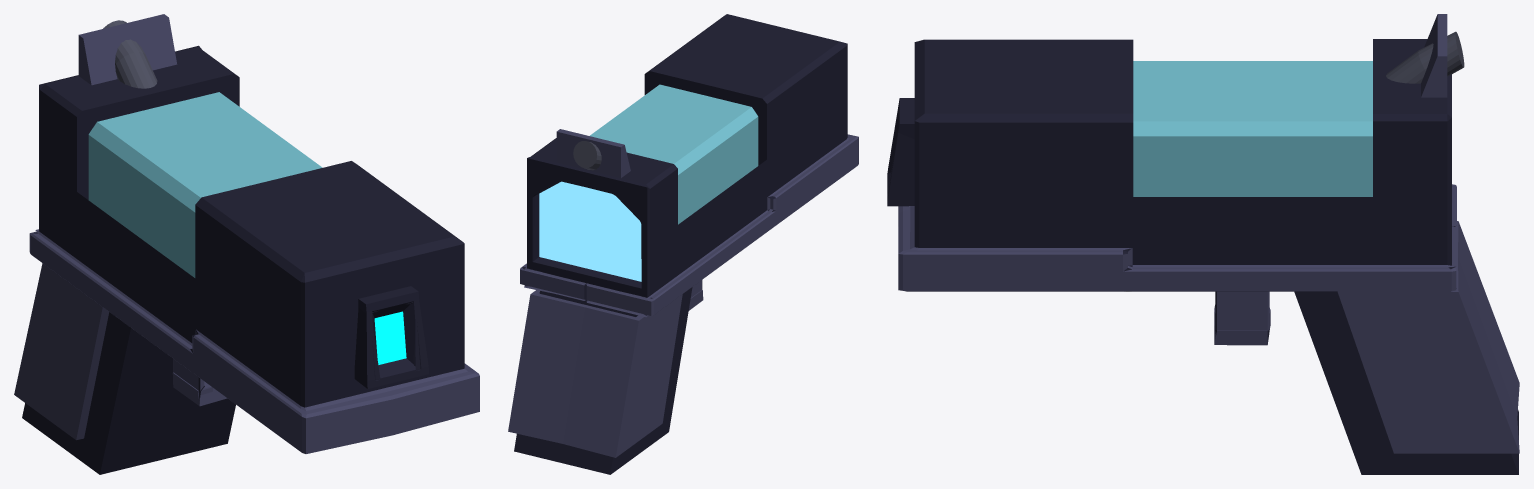
Rendered from Arma Laser o de plasma (No lo pongo en ingles porque no soy gringo).fbx.
3 renders of one model, left to right at view 1: azimuth 30°, elevation 25°; view 2: azimuth 150°, elevation 25°; view 3: azimuth 270°, elevation 25°, orthographic. The views are drawn at different scales.
Parts seen in each view (by area): view 1: Cube.001, Cylinder; view 2: Cube.001, Cylinder; view 3: Cube.001, Cylinder.
Part boxes in pixels (x1,y1,x2,y2): Cube.001: (14,14,479,474); Cylinder: (103,20,157,88); Cube.001: (508,14,858,474); Cylinder: (573,141,601,170); Cube.001: (887,14,1519,474); Cylinder: (1386,31,1464,83).
Bounding box in the file's own units: 218 × 475 × 666.
